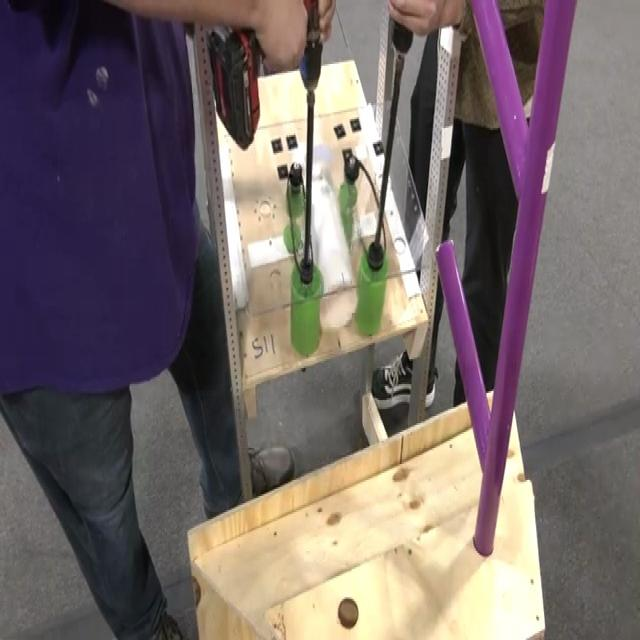Coral: (290, 146, 358, 330)
